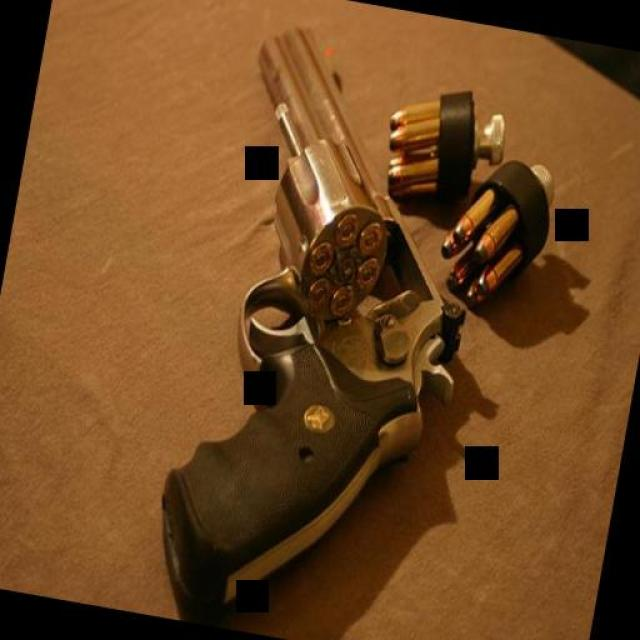gun: (135, 10, 511, 640)
